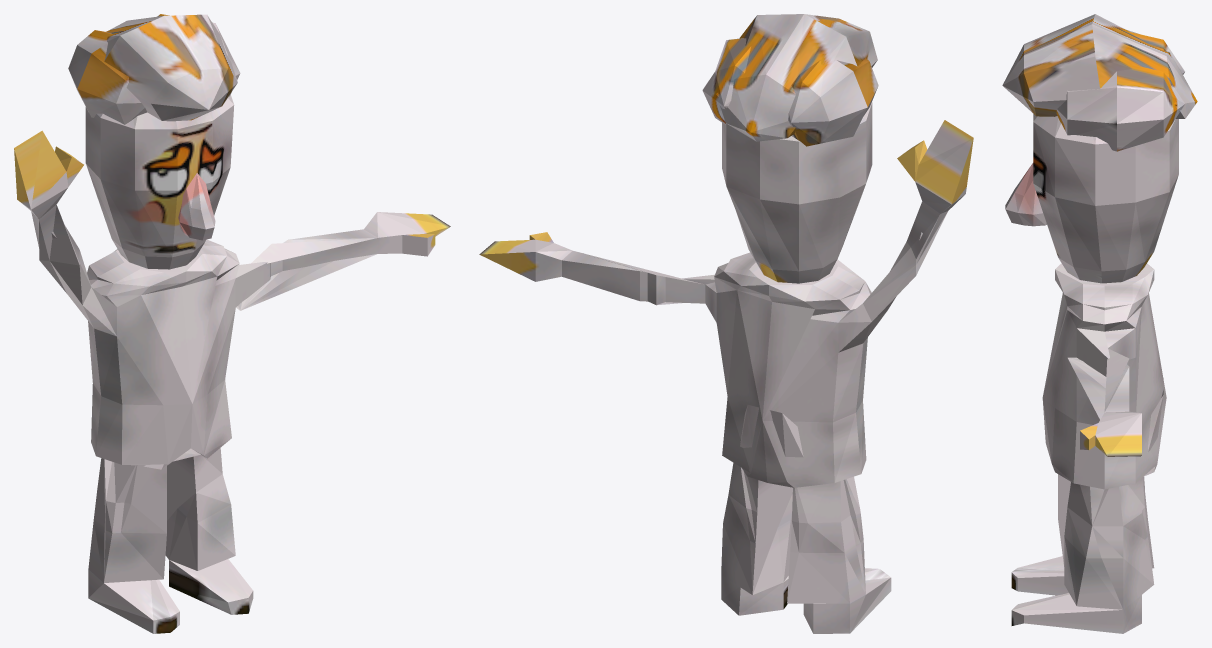
The model's file is YachSid.glb.
The picture shows the model from 3 angles, left to right: view 1: azimuth 30°, elevation 25°; view 2: azimuth 150°, elevation 25°; view 3: azimuth 270°, elevation 25°; orthographic projection. The views are drawn at different scales.
Visible parts, largest first — view 1: YachSid; view 2: YachSid; view 3: YachSid.
Boxes of the visible parts, x1=… form: YachSid: x1=14, y1=14, x2=450, y2=633; YachSid: x1=479, y1=14, x2=973, y2=633; YachSid: x1=1002, y1=14, x2=1197, y2=633.
Bounding box in the file's own units: 182 × 223 × 68.
1 material, 1 textured.
